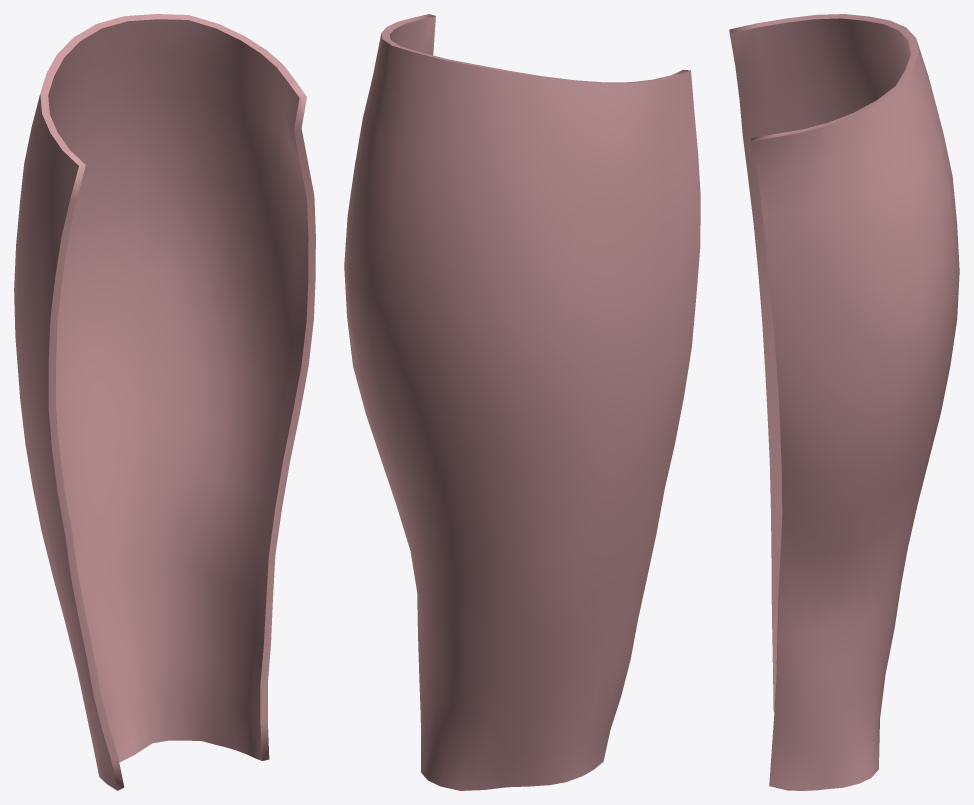
3 views of the same model, side by side, from view 1: azimuth 30°, elevation 25°; view 2: azimuth 150°, elevation 25°; view 3: azimuth 270°, elevation 25° (orthographic). The views are drawn at different scales.
Visible parts, largest first — view 1: ZA_115204bfc0d23015; view 2: ZA_115204bfc0d23015; view 3: ZA_115204bfc0d23015.
Part boxes in pixels (box(x1,y1,x2,y2)): ZA_115204bfc0d23015: box(14, 14, 315, 790); ZA_115204bfc0d23015: box(344, 14, 700, 790); ZA_115204bfc0d23015: box(729, 14, 959, 790).
Bounding box in the file's own units: 0.1188 × 0.2892 × 0.0853.
